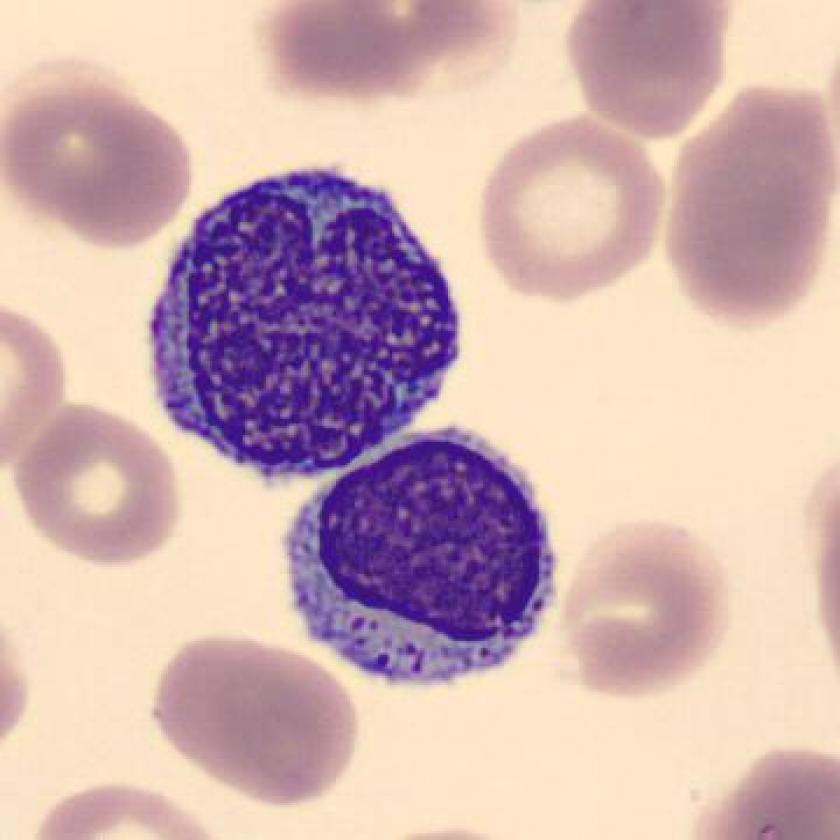lymphocyte: (144, 161, 467, 485), (277, 415, 571, 709)
